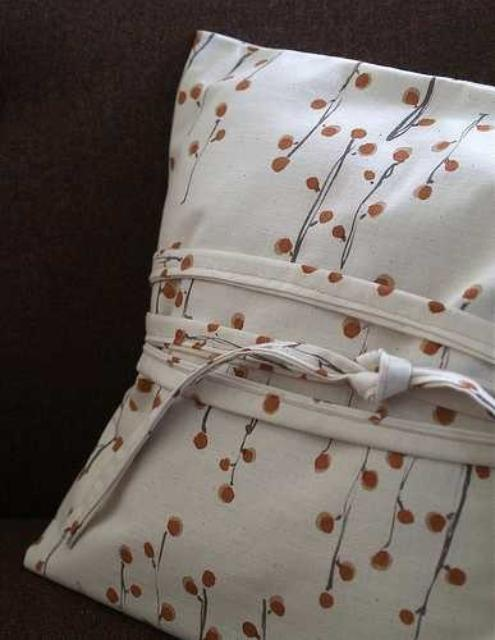pillow: (22, 28, 494, 638)
